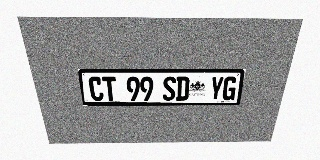9: (126, 77, 140, 101), (140, 76, 153, 101)
C: (88, 77, 104, 101)
D: (176, 76, 190, 101)
G: (222, 76, 238, 100)
S: (163, 76, 176, 101)
T: (102, 77, 117, 101)
Y: (209, 76, 224, 100)
